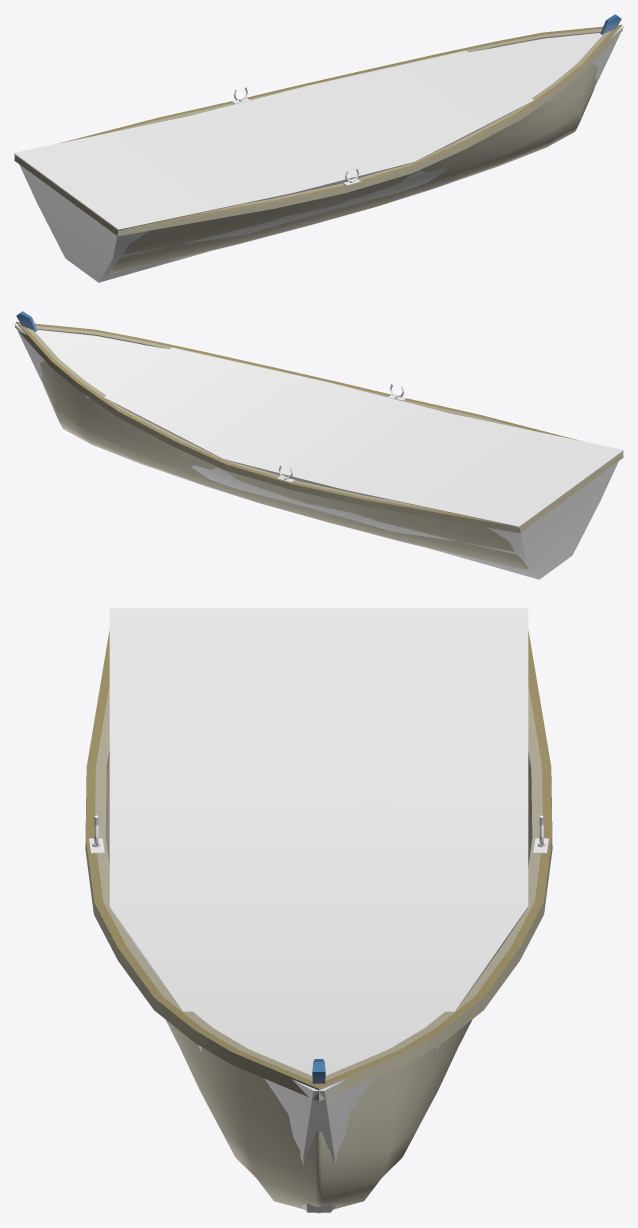
Rendered from eca_fv_shore_boat_b.DAE.
3 views of the same model, one above another, from view 1: azimuth 30°, elevation 25°; view 2: azimuth 150°, elevation 25°; view 3: azimuth 270°, elevation 25° (orthographic). The views are drawn at different scales.
Parts seen in each view (by area): view 1: Colmesh-1, eca_fv_shore_boat_b120; view 2: Colmesh-1, eca_fv_shore_boat_b120; view 3: Colmesh-1, eca_fv_shore_boat_b120.
Boxes of the visible parts, left/top/right/bottom form: Colmesh-1: left=14, top=24, right=623, bottom=282; eca_fv_shore_boat_b120: left=14, top=14, right=622, bottom=274; Colmesh-1: left=14, top=321, right=623, bottom=579; eca_fv_shore_boat_b120: left=15, top=311, right=623, bottom=571; Colmesh-1: left=109, top=608, right=528, bottom=1212; eca_fv_shore_boat_b120: left=85, top=630, right=552, bottom=1213.
Size of the model in its own units: 6.2 by 2.25 by 1.33.
